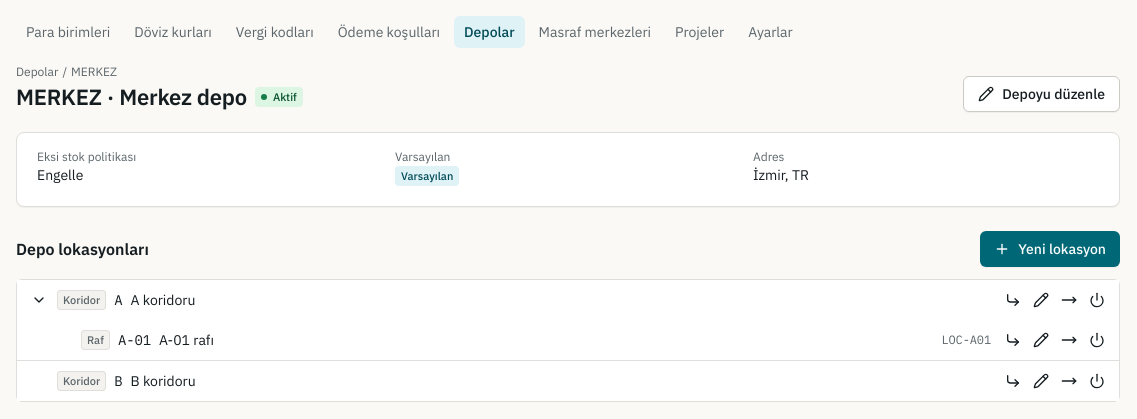
Test case: WarehouseDetailPage › deactivates a location and flags it in the tree
The image size is (1137, 419).
Click the button named "B koridoru lokasyonunu pasif yap": click(1097, 381) [1083,367,1111,395]
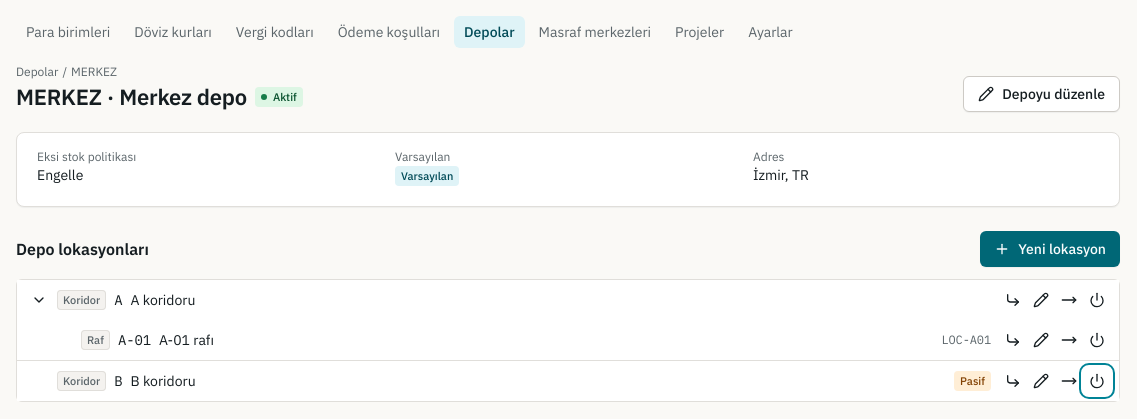
Check: the button named "B koridoru lokasyonunu aktif yap" is shown, box [1083,367,1111,395]
Check: the text "Pasif" is shown, box [954,371,991,391]
